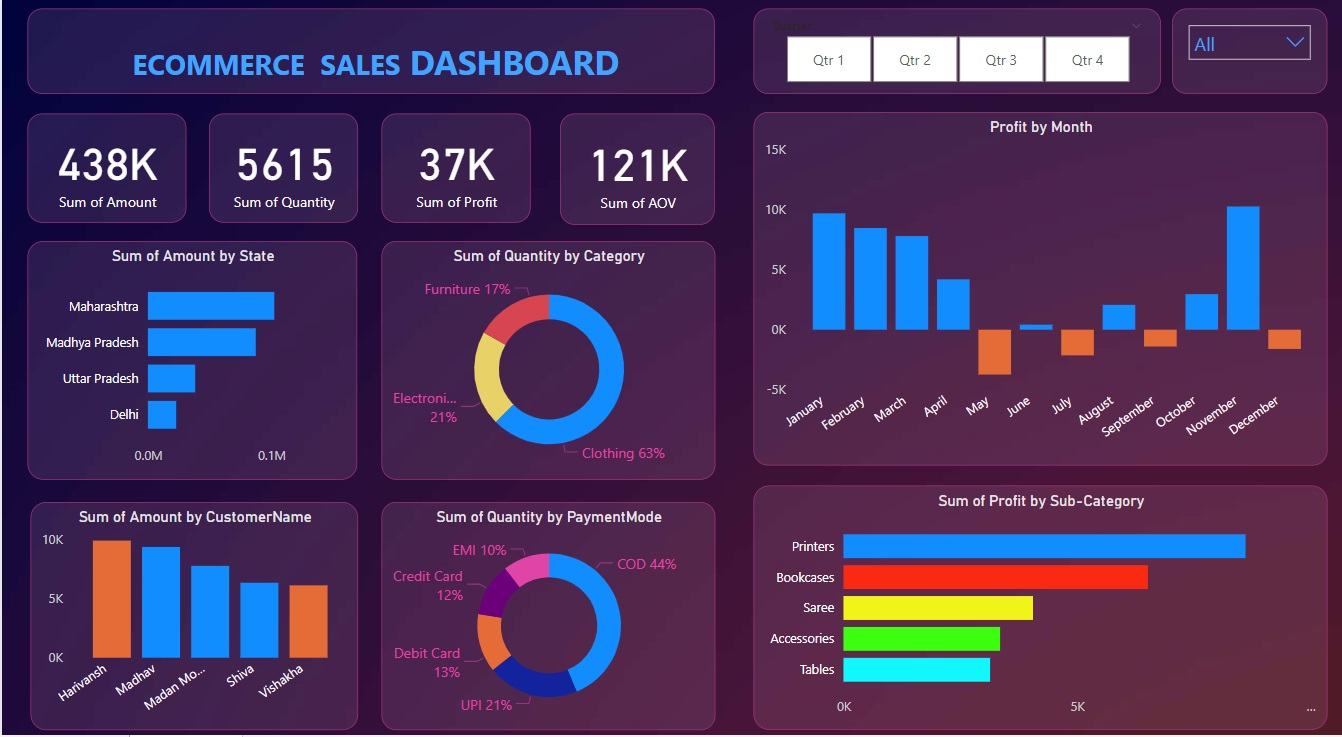

What the dashboard file says about the page in this screenshot:
{"tool":"powerbi","page":{"name":"Page 1","canvas":[1280,720],"ordinal":0},"visuals":[{"type":"textbox","box":[24.6,13.2,654.8,81.4],"z":0},{"type":"columnChart","title":"Profit by Month","fields":{"Y":["Details.Profit"],"Category":["Orders.Order Date.Variation.Date Hierarchy.Month"]},"box":[715.4,111.7,547,336.9],"z":1000},{"type":"barChart","fields":{"Category":["Details.Sub-Category"],"Y":["Details.Profit"]},"box":[715.4,467.5,547,232.8],"z":2000},{"type":"donutChart","fields":{"Category":["Details.Category"],"Y":["Details.Quantity"]},"box":[361.5,234.7,318,227.1],"z":3000},{"type":"donutChart","fields":{"Y":["Details.Quantity"],"Category":["Details.PaymentMode"]},"box":[361.5,482.6,318,217.6],"z":4000},{"type":"card","fields":{"Values":["Details.Amount"]},"box":[24.6,113.6,151.4,104.1],"z":5000},{"type":"card","fields":{"Values":["Details.AOV"]},"box":[531.8,113.6,147.6,106],"z":6000},{"type":"card","fields":{"Values":["Details.Profit"]},"box":[361.5,113.6,141.9,104.1],"z":7000},{"type":"card","fields":{"Values":["Details.Quantity"]},"box":[196.8,113.6,141.9,104.1],"z":8000},{"type":"barChart","fields":{"Category":["Orders.State"],"Y":["Details.Amount"]},"box":[24.6,234.7,314.2,227.1],"z":9000},{"type":"columnChart","fields":{"Category":["Orders.CustomerName"],"Y":["Details.Amount"]},"box":[26.5,482.6,312.3,217.6],"z":10000},{"type":"slicer","fields":{"Values":["Orders.Order Date.Variation.Date Hierarchy.Quarter"]},"box":[715.4,13.2,388,81.4],"z":11000},{"type":"slicer","fields":{"Values":["Orders.State"]},"box":[1114.2,12.7,147.8,81.1],"z":12000}]}

Visuals, with their boxes in screenshot pixels (x1, y1, x2, y2), scaled from the page's 1280x720 canvas onto the 1342x737 screenshot:
textbox: (26, 14, 712, 97)
"Profit by Month" columnChart: (750, 114, 1324, 459)
barChart - Details.Sub-Category x Details.Profit: (750, 479, 1324, 717)
donutChart - Details.Category x Details.Quantity: (379, 240, 712, 473)
donutChart - Details.Quantity x Details.PaymentMode: (379, 494, 712, 717)
card - Details.Amount: (26, 116, 185, 223)
card - Details.AOV: (558, 116, 712, 225)
card - Details.Profit: (379, 116, 528, 223)
card - Details.Quantity: (206, 116, 355, 223)
barChart - Orders.State x Details.Amount: (26, 240, 355, 473)
columnChart - Orders.CustomerName x Details.Amount: (28, 494, 355, 717)
slicer - Orders.Order Date.Variation.Date Hierarchy.Quarter: (750, 14, 1157, 97)
slicer - Orders.State: (1168, 13, 1323, 96)
